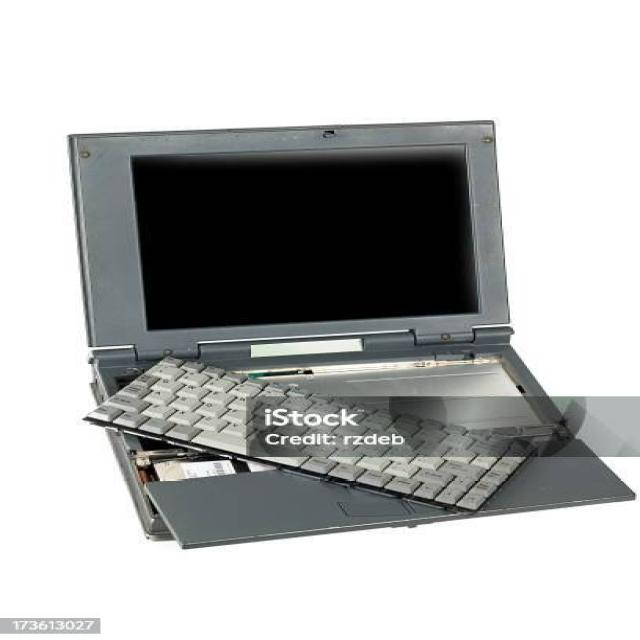electronics: (69, 122, 560, 425), (72, 123, 507, 356), (86, 357, 557, 510), (130, 144, 477, 329), (110, 432, 632, 545), (132, 448, 271, 482), (155, 458, 235, 480), (160, 461, 187, 479), (207, 459, 234, 474), (441, 340, 445, 343), (201, 461, 205, 463), (191, 474, 193, 474)
